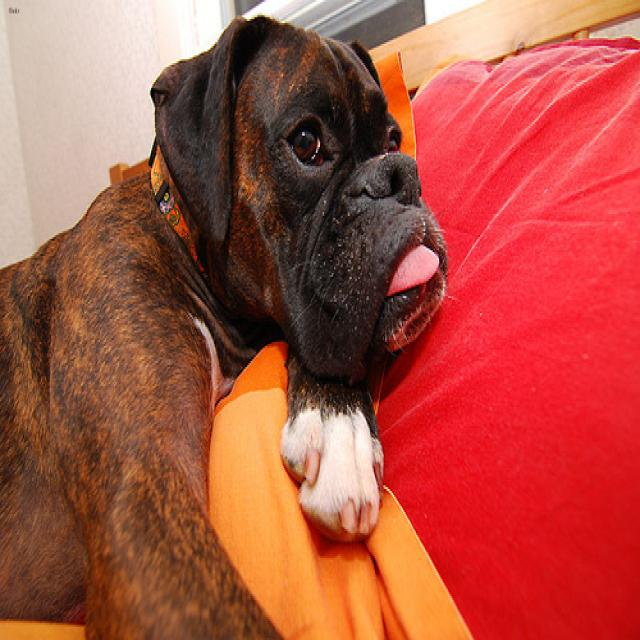dog-boxer: (1, 6, 462, 636)
